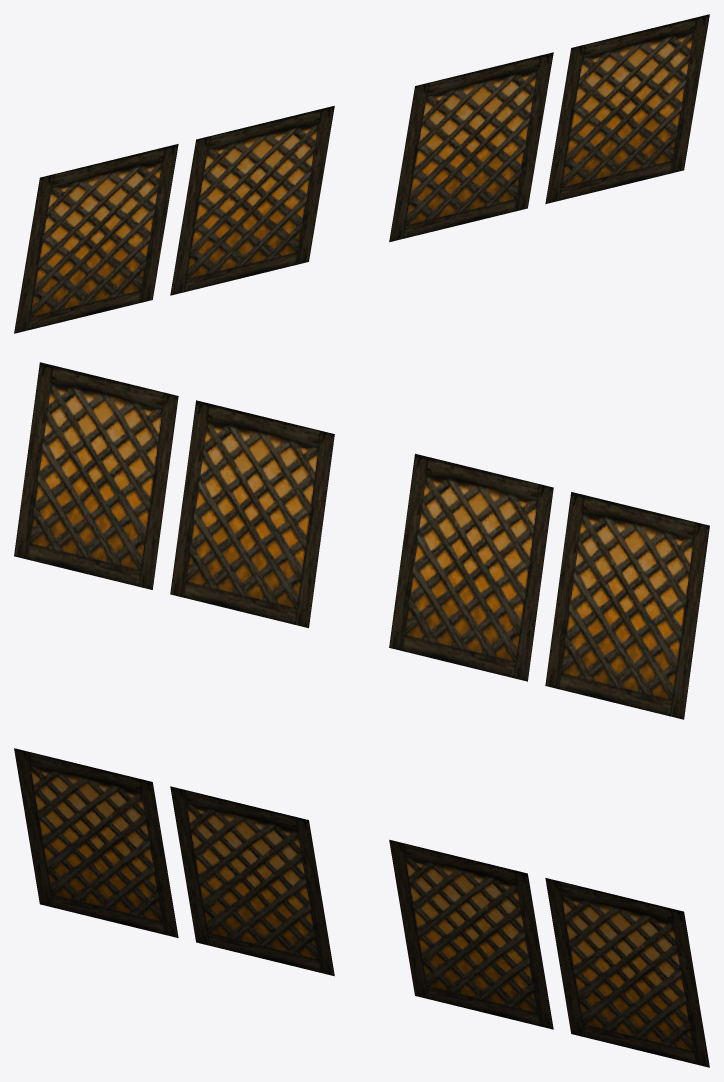
Rendered from LAKETOWN_EXTERIOR_PS_LT_WINDOWS2840.fbx.
3 renders of one model, top to bottom at view 1: azimuth 30°, elevation 25°; view 2: azimuth 150°, elevation 25°; view 3: azimuth 330°, elevation 25°, orthographic.
Parts seen in each view (by area): view 1: LAKETOWN_EXTERIOR_PS_LT_WINDOWS2840; view 2: LAKETOWN_EXTERIOR_PS_LT_WINDOWS2840; view 3: LAKETOWN_EXTERIOR_PS_LT_WINDOWS2840.
Boxes of the visible parts, box(x1,y1,x2,y2) form: LAKETOWN_EXTERIOR_PS_LT_WINDOWS2840: box(14, 14, 709, 333); LAKETOWN_EXTERIOR_PS_LT_WINDOWS2840: box(14, 362, 709, 719); LAKETOWN_EXTERIOR_PS_LT_WINDOWS2840: box(14, 748, 709, 1067).
Bounding box in the file's own units: 50654 × 12654 × 3391.
Materials: 1 (1 with a texture image).
